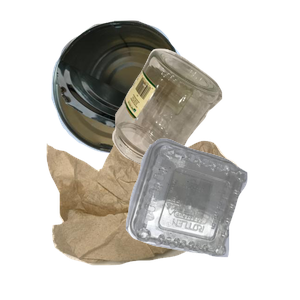glass: (110, 46, 300, 205)
metal: (49, 18, 229, 164)
plastic: (123, 136, 300, 300)
trash: (44, 136, 277, 300)
